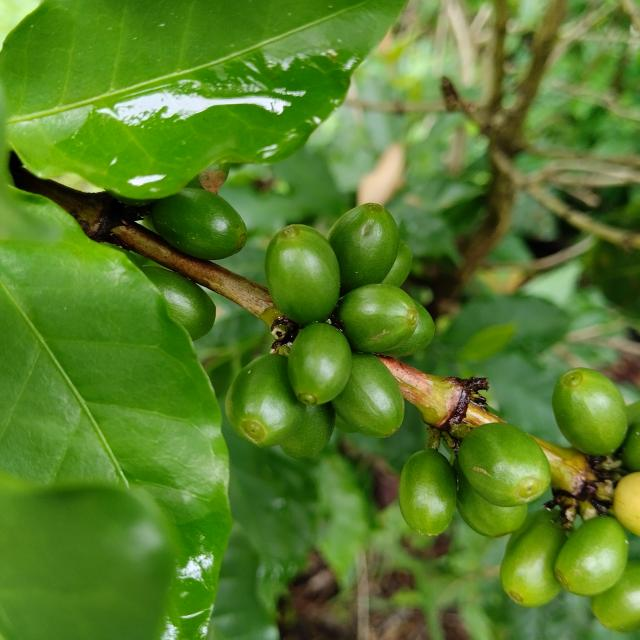green: (459, 423, 552, 507), (265, 224, 341, 325), (225, 354, 306, 448), (150, 188, 247, 260), (327, 202, 400, 294), (553, 368, 629, 456), (501, 511, 568, 608), (331, 353, 405, 438), (453, 459, 528, 538), (555, 517, 629, 597), (335, 284, 419, 353), (142, 266, 215, 341), (288, 323, 352, 406), (399, 450, 457, 536), (592, 562, 640, 634), (279, 403, 336, 460), (381, 300, 435, 357)
